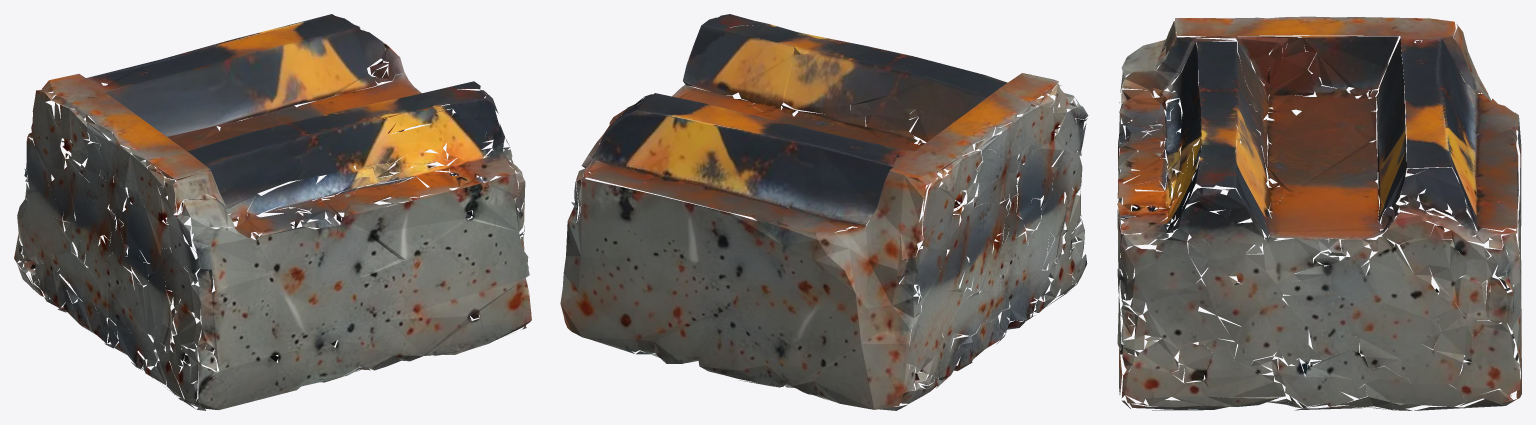
The model's file is concrete-barrier.glb.
3 renders of one model, left to right at view 1: azimuth 30°, elevation 25°; view 2: azimuth 150°, elevation 25°; view 3: azimuth 270°, elevation 25°, orthographic. The views are drawn at different scales.
Visible parts, largest first — view 1: prop; view 2: prop; view 3: prop.
Boxes of the visible parts, <box> form: prop: <box>14,14,531,410</box>; prop: <box>560,14,1088,410</box>; prop: <box>1117,16,1521,410</box>.
Bounding box in the file's own units: 0.9066 × 0.5607 × 0.8823.
Materials: 1 (1 with a texture image).
